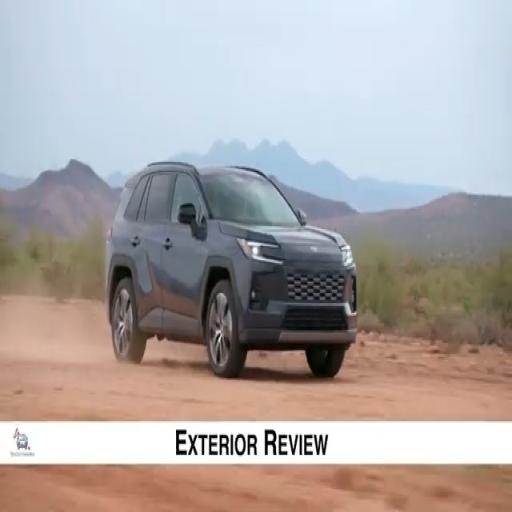bumper: (237, 262, 357, 349), (239, 303, 356, 349)
door: (162, 173, 207, 339), (138, 173, 174, 332)
emblem: (311, 247, 317, 251)
grille: (287, 272, 344, 302), (282, 306, 347, 331)
headlight: (237, 239, 282, 264), (340, 245, 353, 265)
hood: (220, 222, 346, 261)
side_mirror: (178, 204, 196, 224), (297, 210, 307, 226)
wheel: (205, 281, 247, 378), (112, 278, 147, 362), (306, 346, 346, 378)
window: (171, 174, 201, 223), (145, 173, 173, 223), (124, 177, 148, 221)
windshield: (201, 173, 299, 226)
